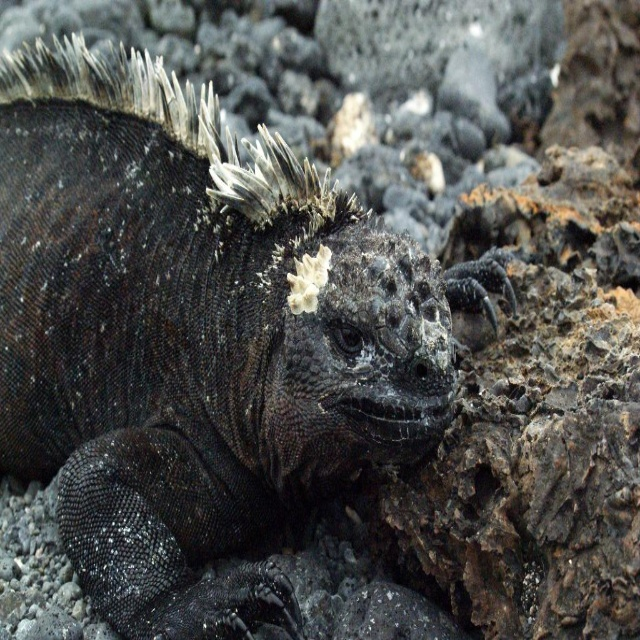Lizard: (20, 53, 552, 596)
